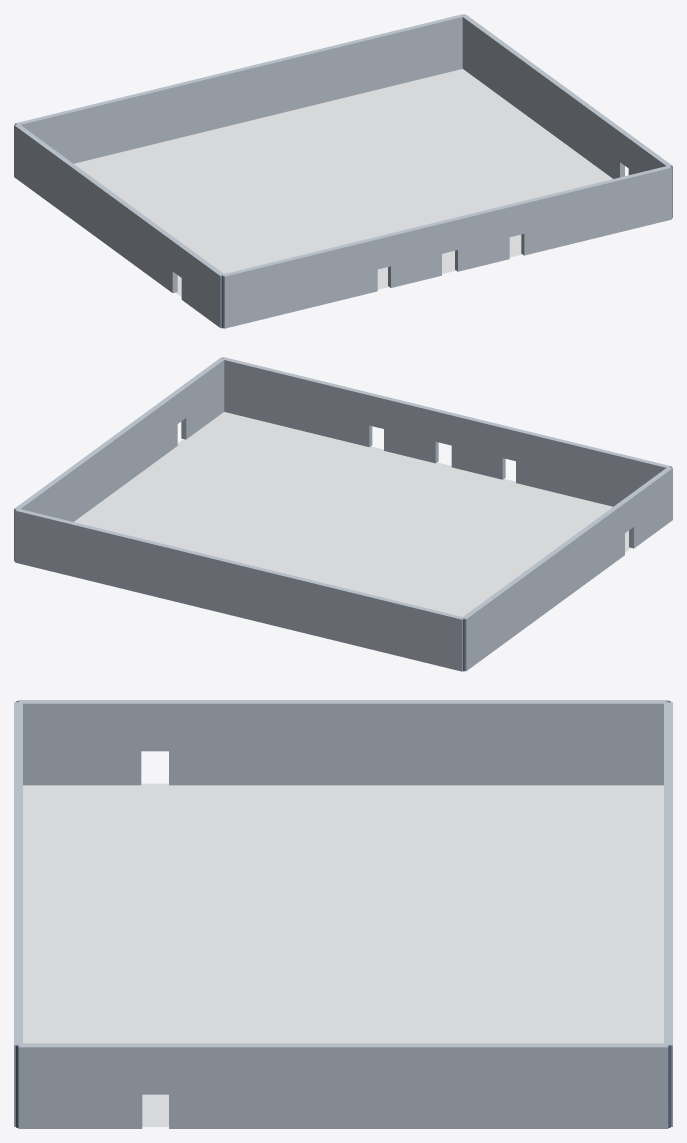
The picture shows the model from 3 angles, top to bottom: view 1: azimuth 30°, elevation 25°; view 2: azimuth 150°, elevation 25°; view 3: azimuth 270°, elevation 25°; orthographic projection. The views are drawn at different scales.
Visible parts, largest first — view 1: room-content; view 2: room-content; view 3: room-content.
Boxes of the visible parts, x1,y1,x2,y2 form: room-content: [14, 14, 672, 328]; room-content: [14, 357, 672, 671]; room-content: [14, 700, 672, 1128].
Bounding box in the file's own units: 45.5 × 5 × 36.5.
